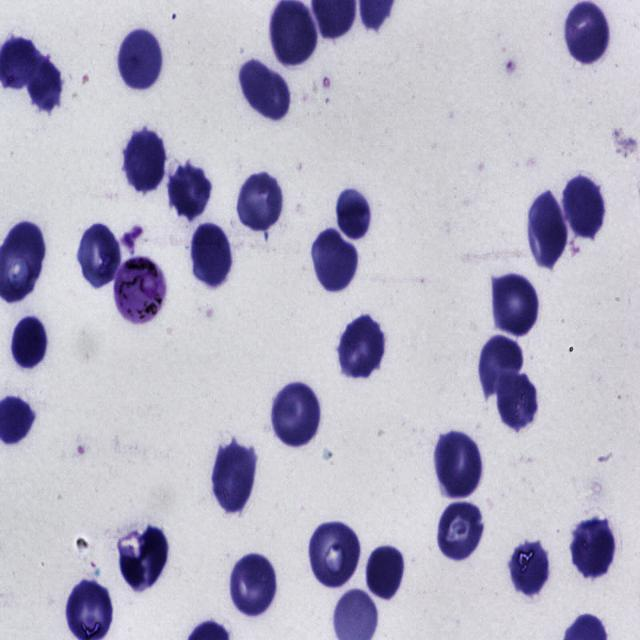difficult: (114, 255, 168, 327)
red blood cell: (306, 522, 362, 589), (334, 317, 391, 380), (490, 270, 541, 340), (269, 384, 322, 451), (435, 429, 485, 498), (228, 552, 278, 619), (234, 171, 286, 235), (526, 193, 568, 268), (564, 0, 612, 65), (212, 439, 256, 509), (241, 59, 289, 121), (190, 221, 235, 287), (312, 229, 358, 293), (118, 28, 162, 92), (571, 519, 617, 579), (563, 174, 605, 239), (77, 226, 121, 288), (496, 371, 540, 433), (508, 536, 552, 597), (438, 501, 482, 562), (124, 127, 166, 190), (23, 54, 64, 117), (169, 161, 213, 219), (476, 340, 523, 394), (10, 314, 48, 373), (335, 189, 374, 244), (366, 544, 404, 600), (139, 523, 171, 588)
